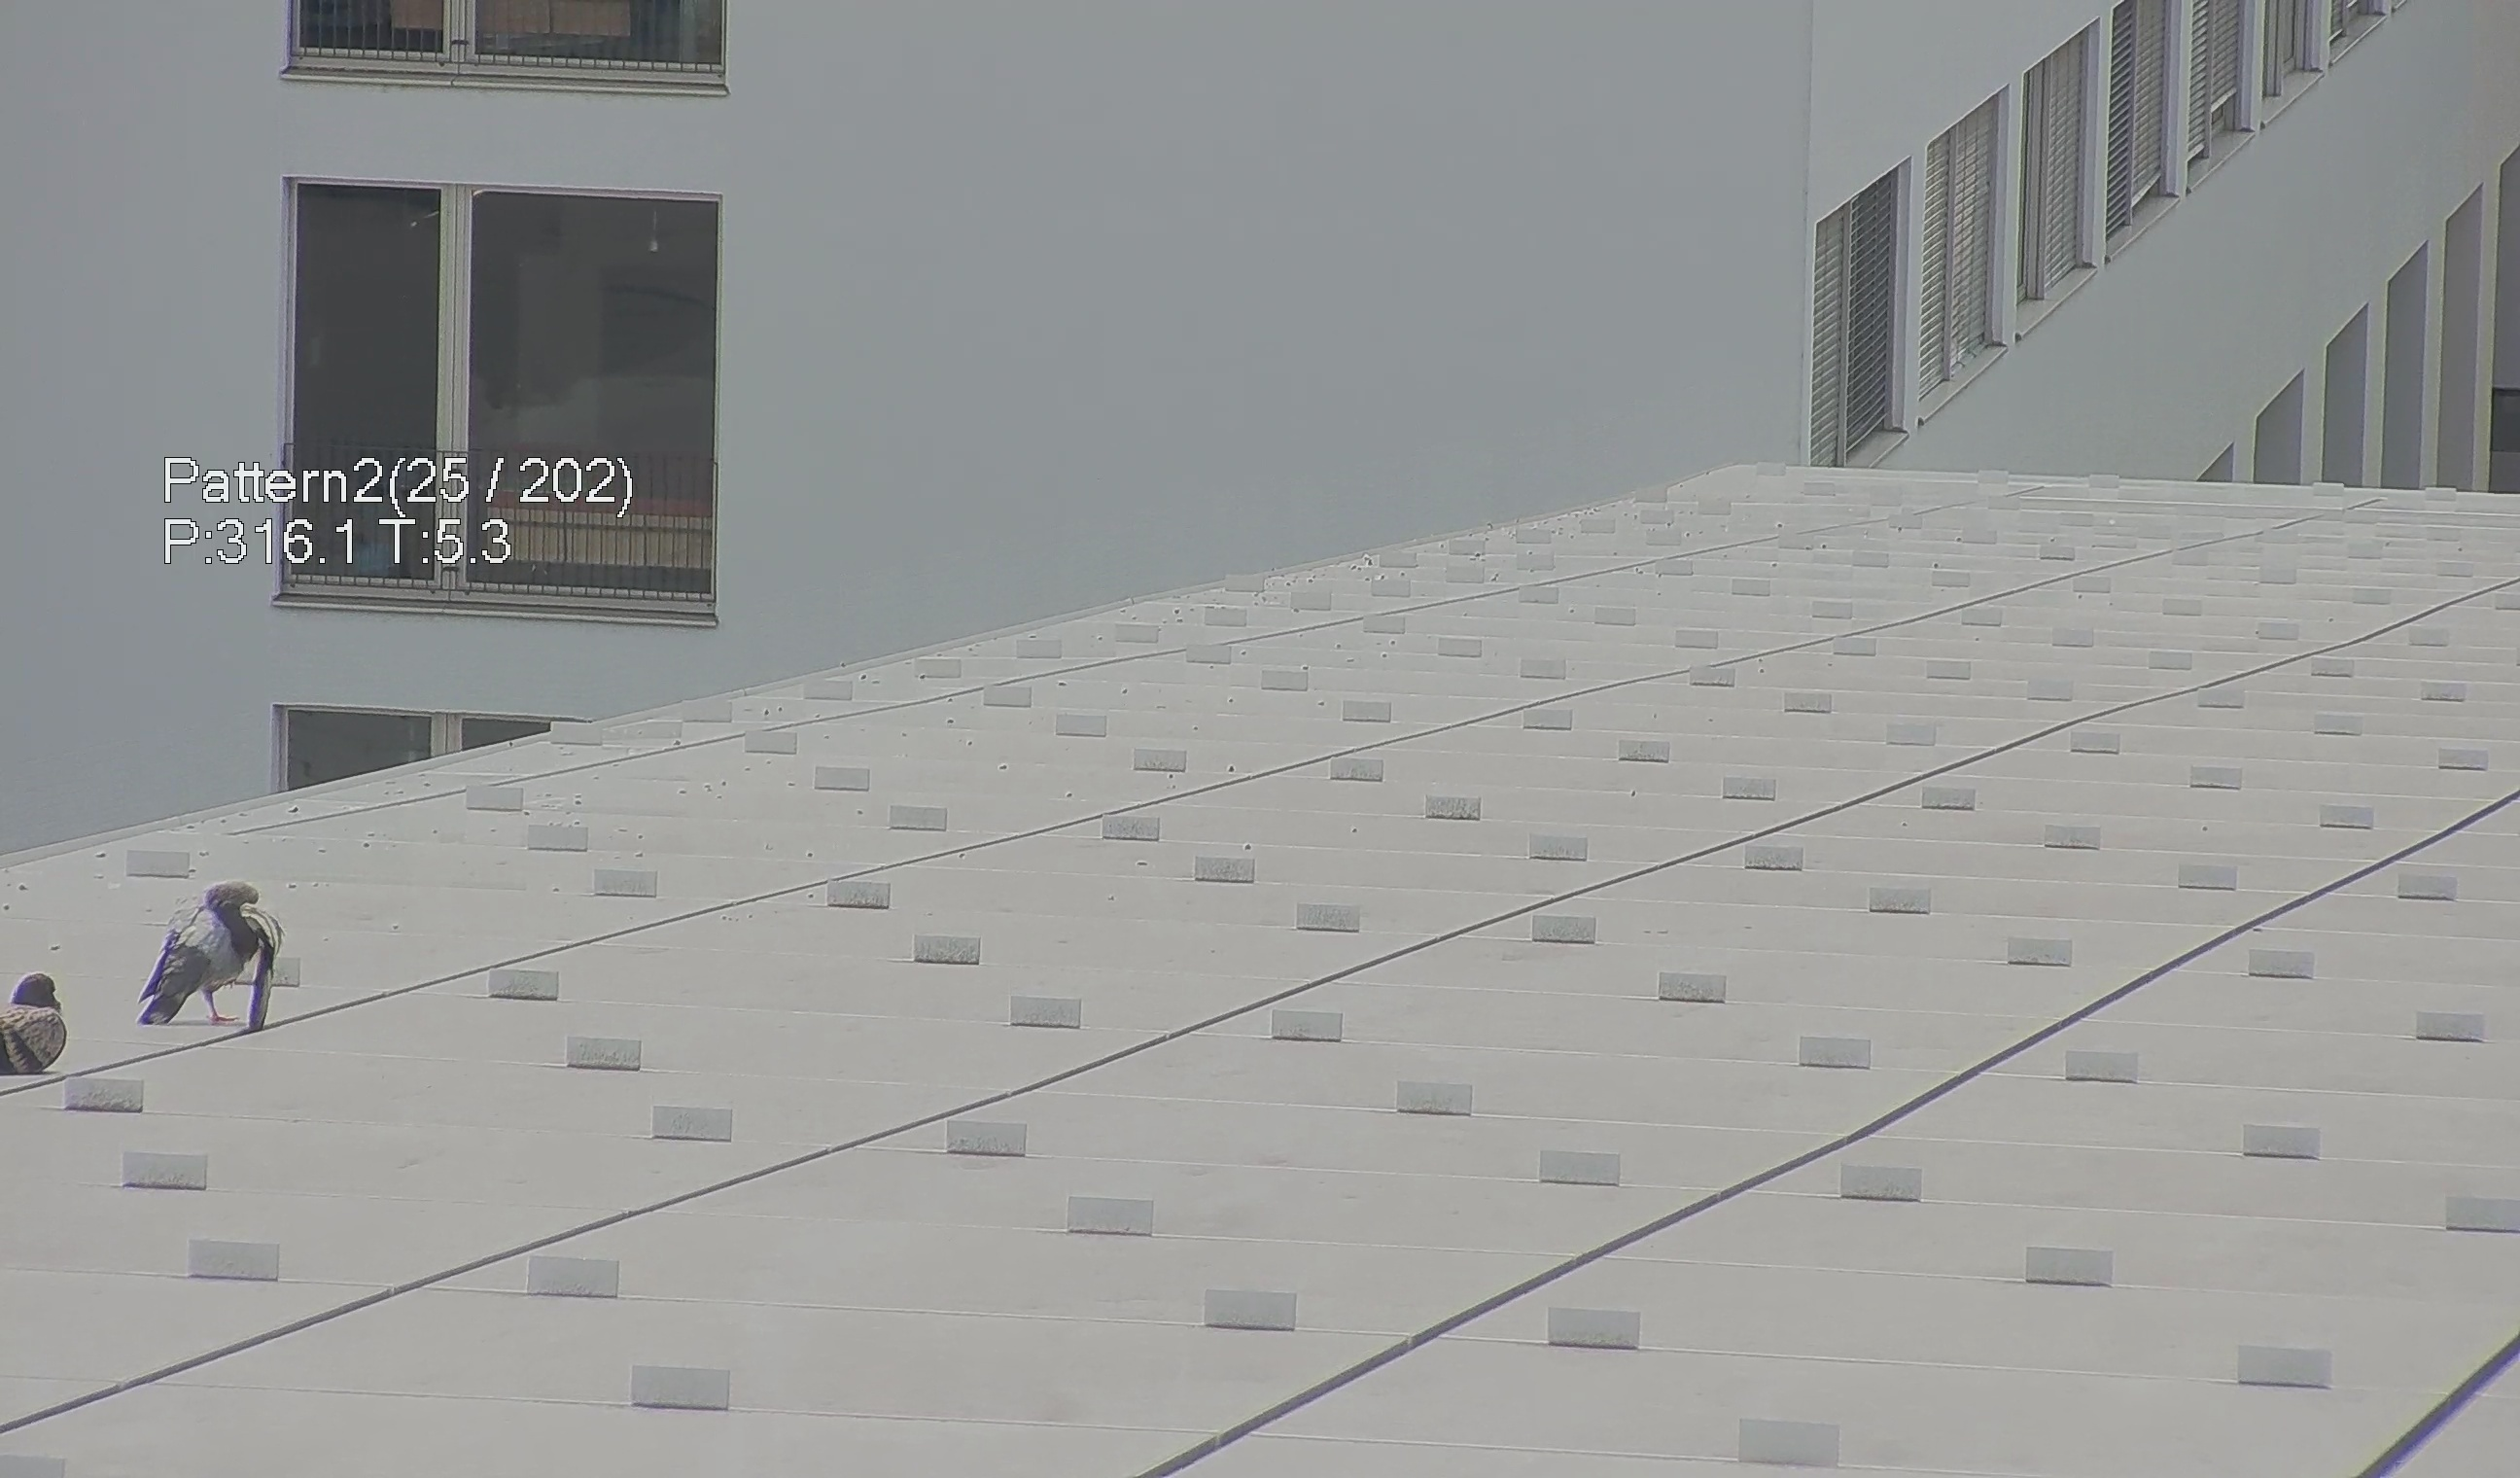Pigeon: (125, 871, 295, 1047), (2, 964, 81, 1101)
